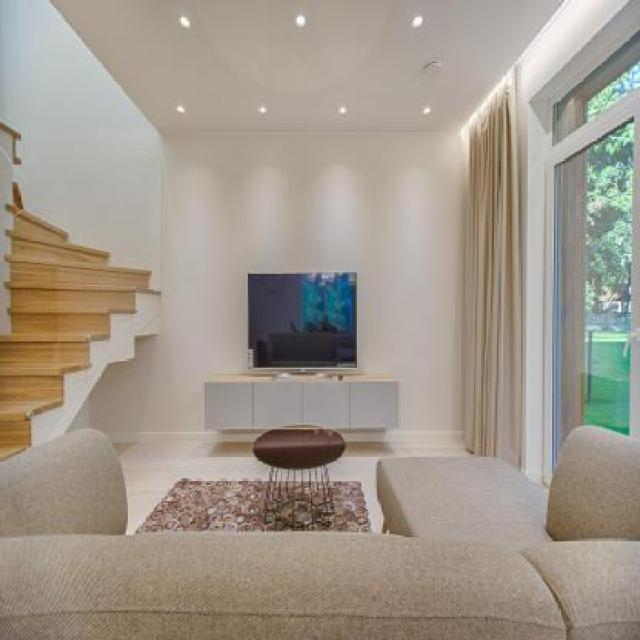Floor: (112, 442, 271, 535), (326, 441, 474, 533), (294, 470, 302, 481), (281, 469, 288, 481), (321, 466, 326, 482), (310, 468, 316, 481), (316, 468, 322, 481), (288, 470, 294, 481), (272, 468, 277, 480), (276, 469, 281, 481), (304, 470, 310, 480), (325, 466, 328, 480), (270, 467, 273, 479)
